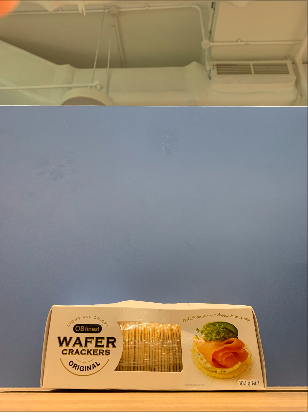Crackers_100-199g: (49, 306, 261, 383)
